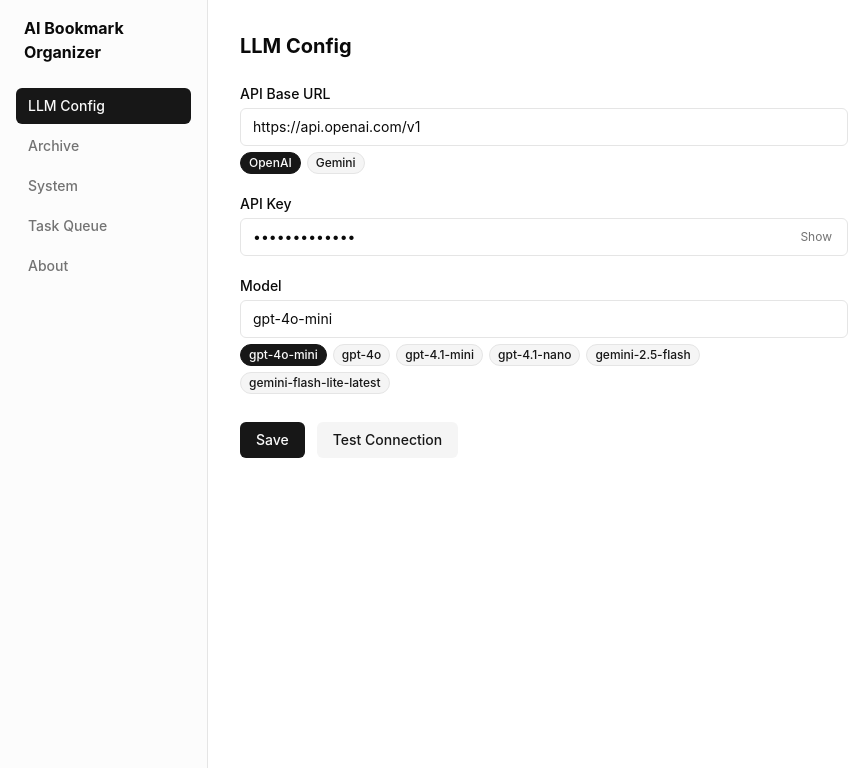
it: Options Page › test connection success shows success toast
The width and height of the screenshot is (865, 768).
Expected: the field labelled "API Base URL" is shown, [240, 108, 848, 146]
Click the button "Test Connection" at (388,440), box [317, 422, 458, 458]
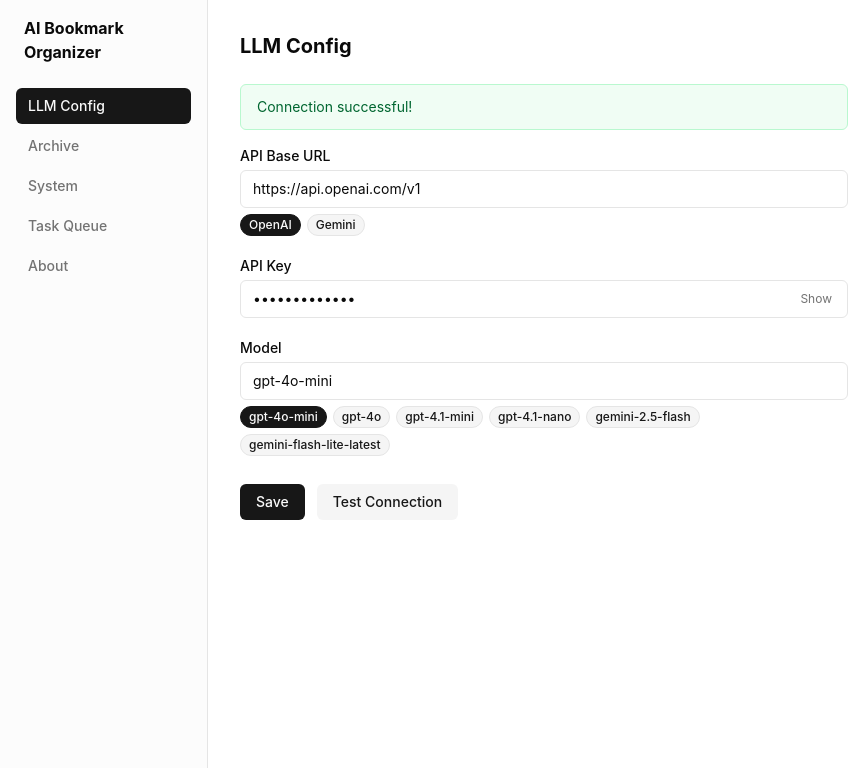
Result: the message shows "successful" at [257, 98, 412, 115]
